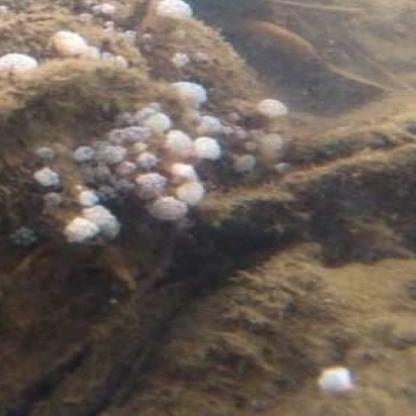3: (0, 252, 213, 416)
Oyster-Closed: (189, 117, 416, 226)
Oyster-Open: (110, 250, 416, 416), (0, 61, 225, 254)
